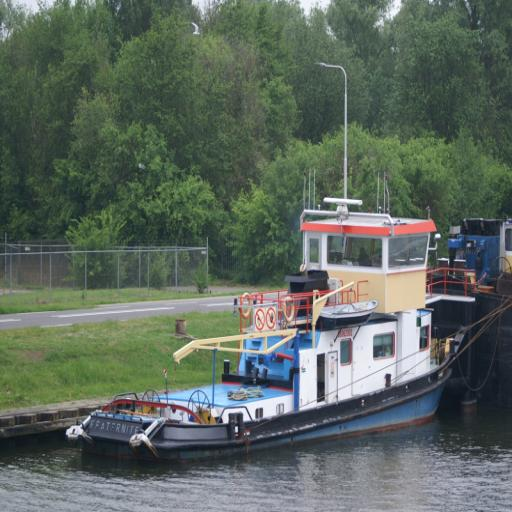tugboat: (63, 167, 487, 479)
